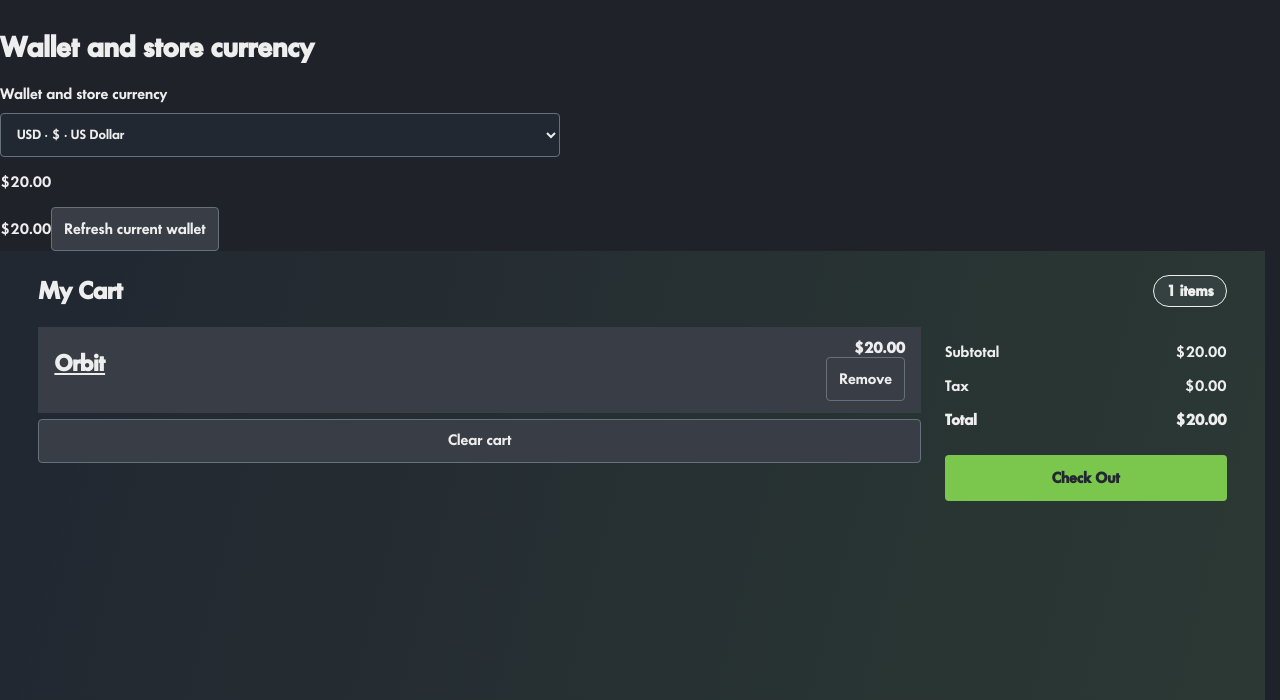
a read-only retry restores confirmed EUR prices without repeating conversion
This screenshot has width=1280, height=700.
Expected: the button "Check Out" is enabled, [945, 455, 1227, 501]
Expected: the 1st text "$20.00" is shown, [0, 174, 51, 190]
Select "EUR · € · Euro" in the dropdown labelled "Wallet and store currency" at (280, 135), box [0, 113, 560, 157]
(page scrolled)
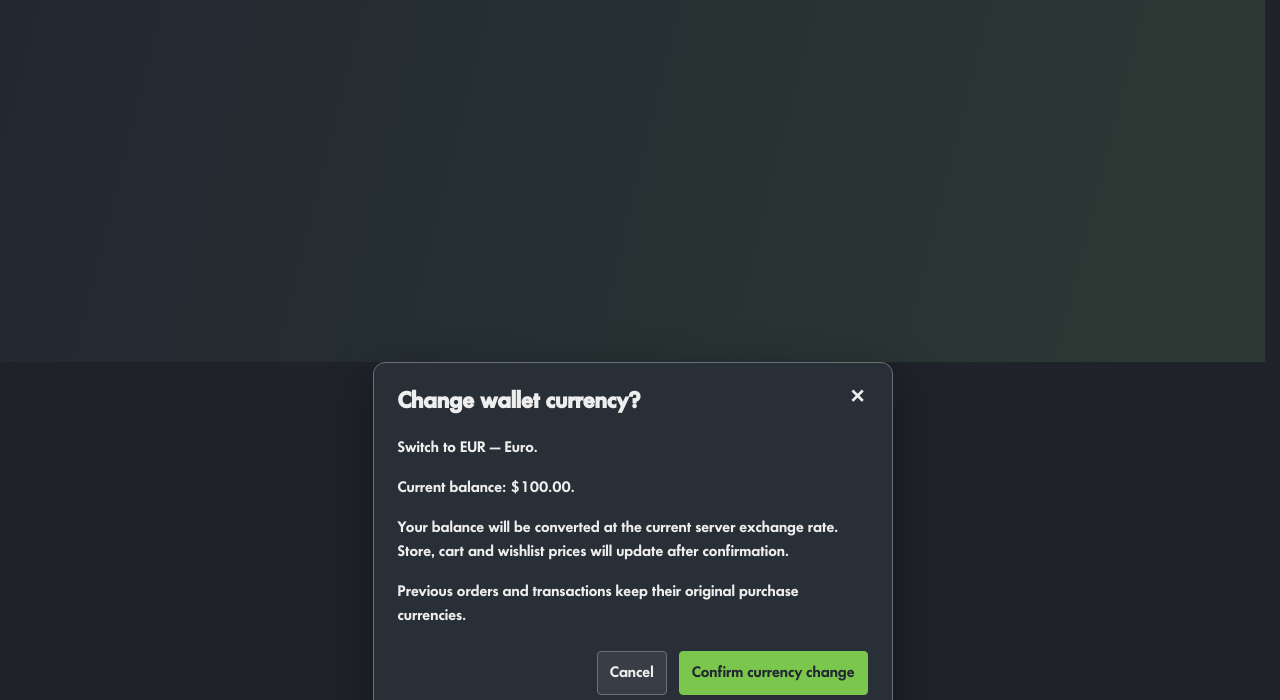
Click the button "Confirm currency change".
click(773, 673)  # box [679, 651, 868, 695]
(page scrolled)
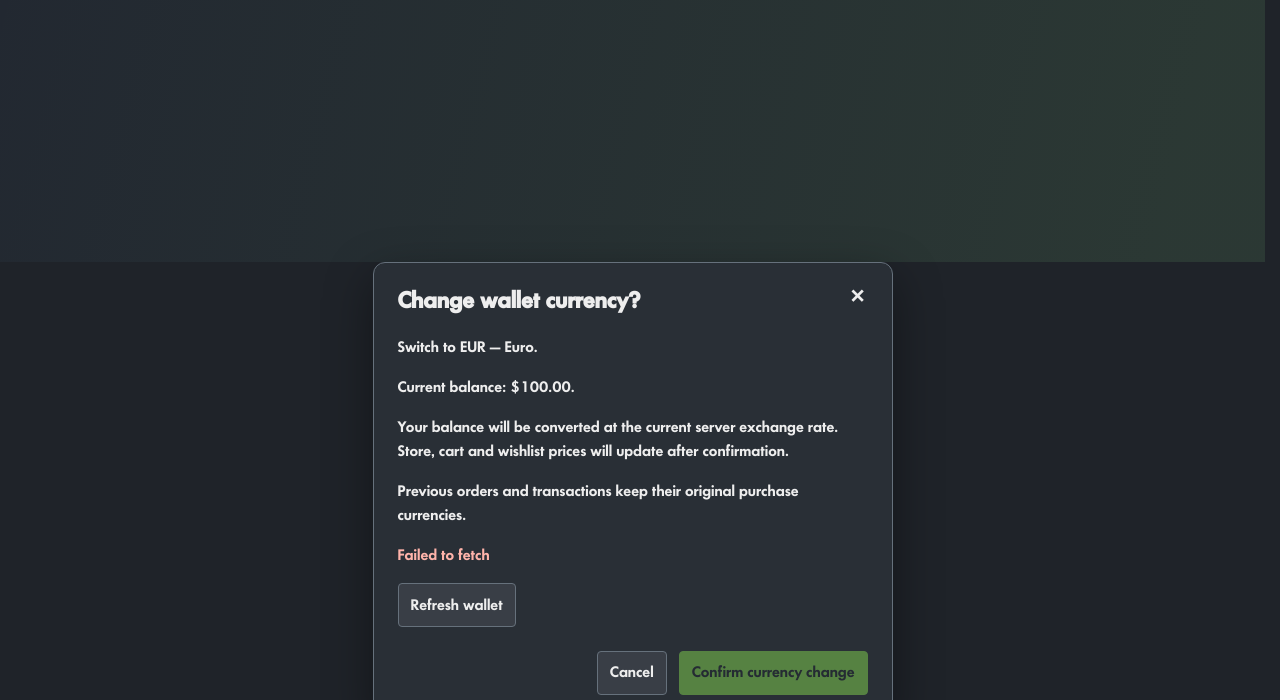
Result: the text "Failed to fetch" is shown at [398, 547, 490, 563]
Click the button "Cancel".
click(632, 673)  # box [597, 651, 667, 695]
(page scrolled)
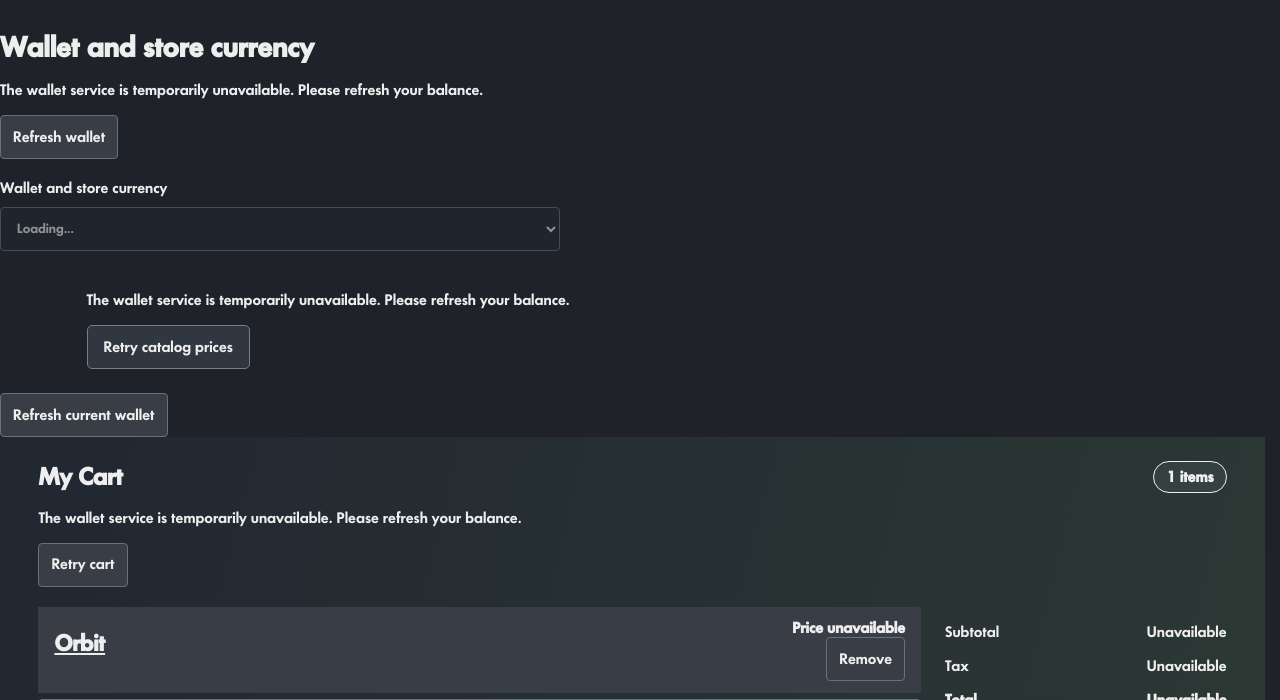
Click the button "Retry catalog prices".
click(168, 347)  # box [86, 325, 250, 369]
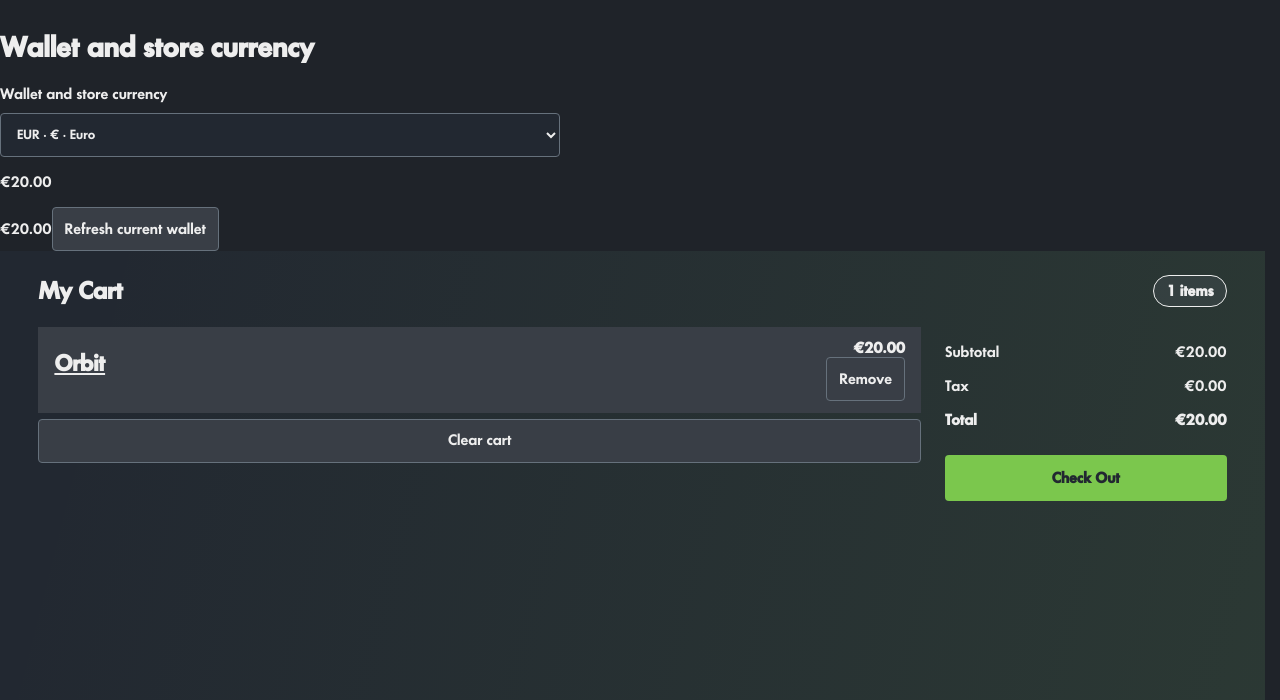
Result: the button "Check Out" is enabled at [945, 455, 1227, 501]
Result: the 1st text "€20.00" is shown at [0, 174, 52, 190]
Result: the text named "Wishlist prices" reads "€20.00" at [0, 221, 52, 237]
